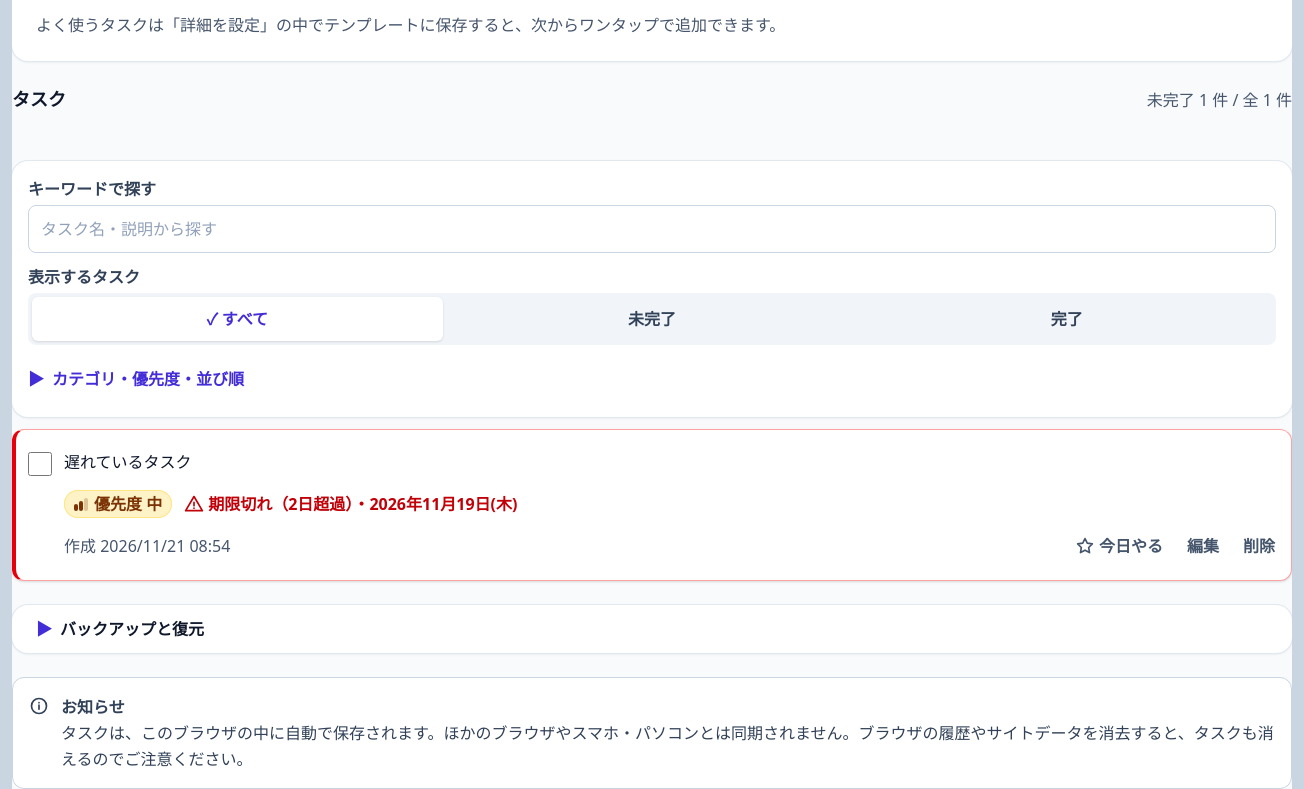
Scenario: タスクの詳細管理 › 期限切れの未完了タスクは「期限切れ」と表示し、完了すると消える
(page scrolled)
Check: the text "期限切れ（2日超過）・2026年11月19日(木)" is shown, box x1=184 y1=492 x2=518 y2=516
Step 1. Click the checkbox labelled "遅れているタスク" → (40, 464), box x1=28 y1=452 x2=52 y2=476
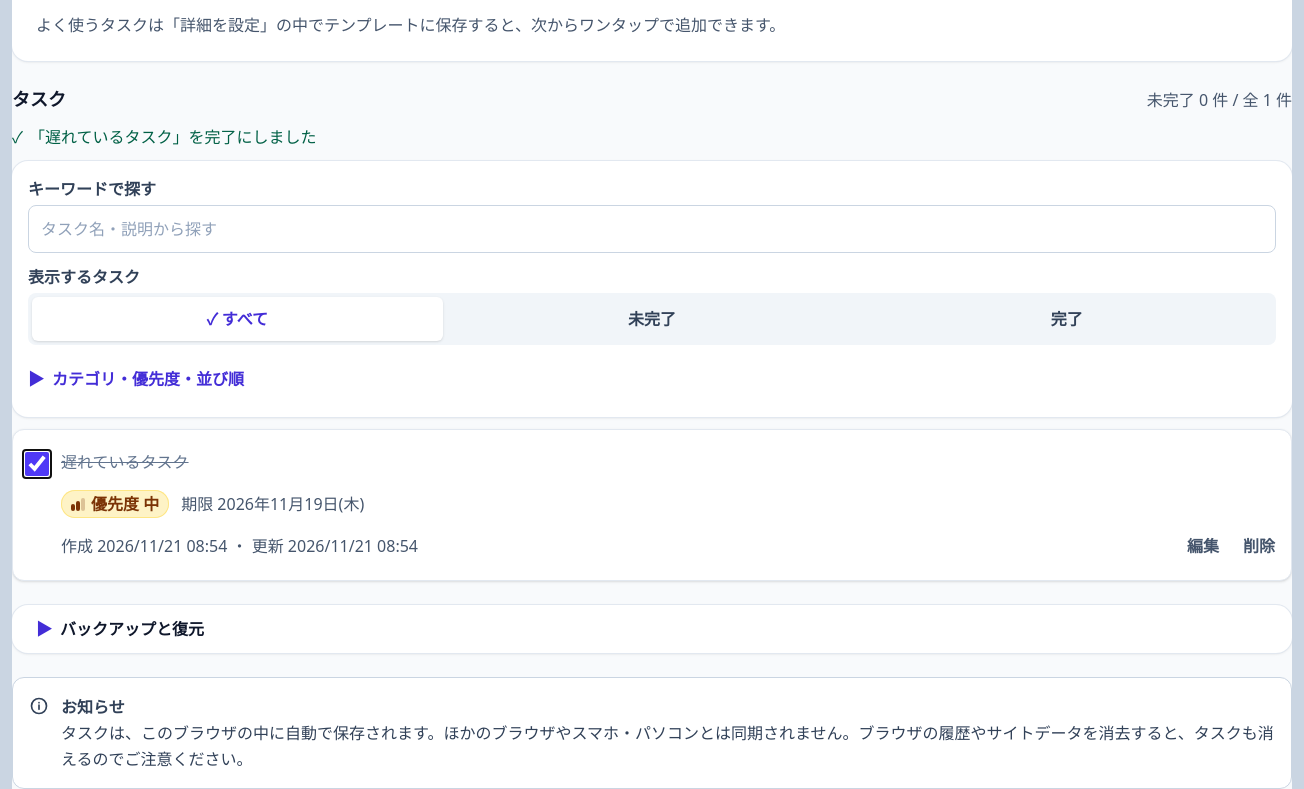
Check: the text "期限切れ（" is gone
